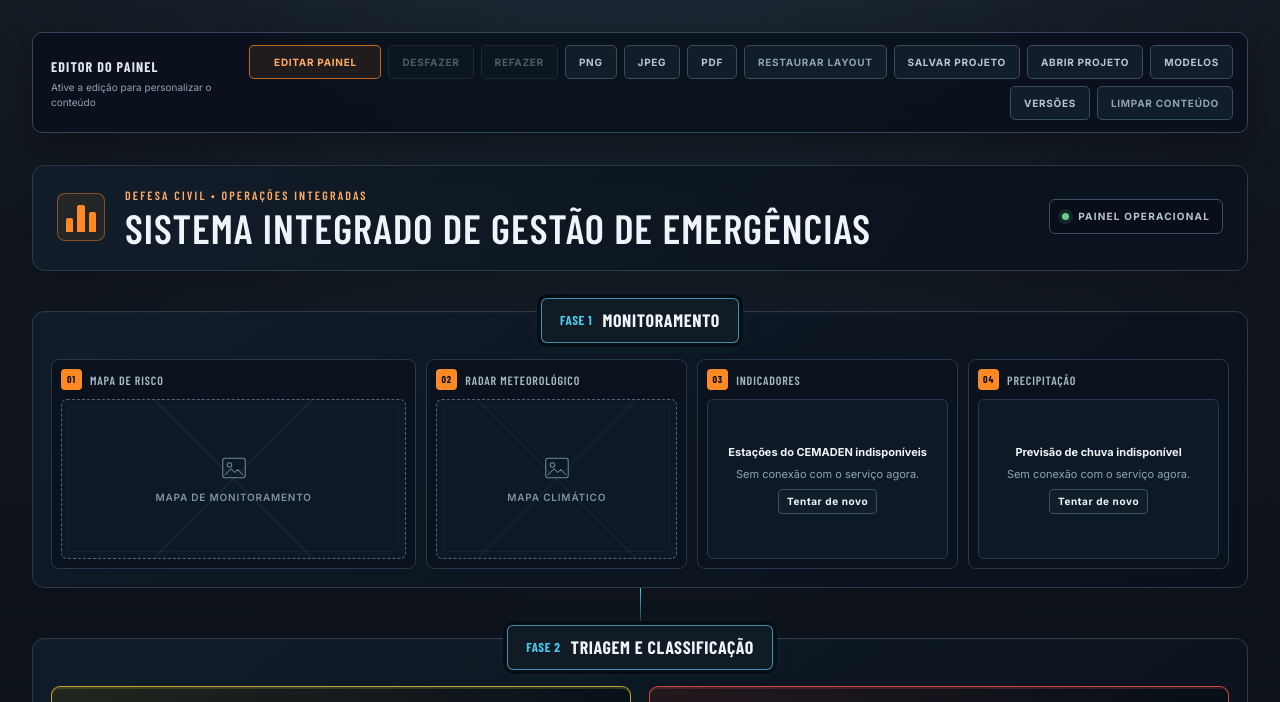
modelos › aplica um modelo e permite desfazer
Click the button "MODELOS" at (1192, 62), box [1150, 45, 1233, 79]
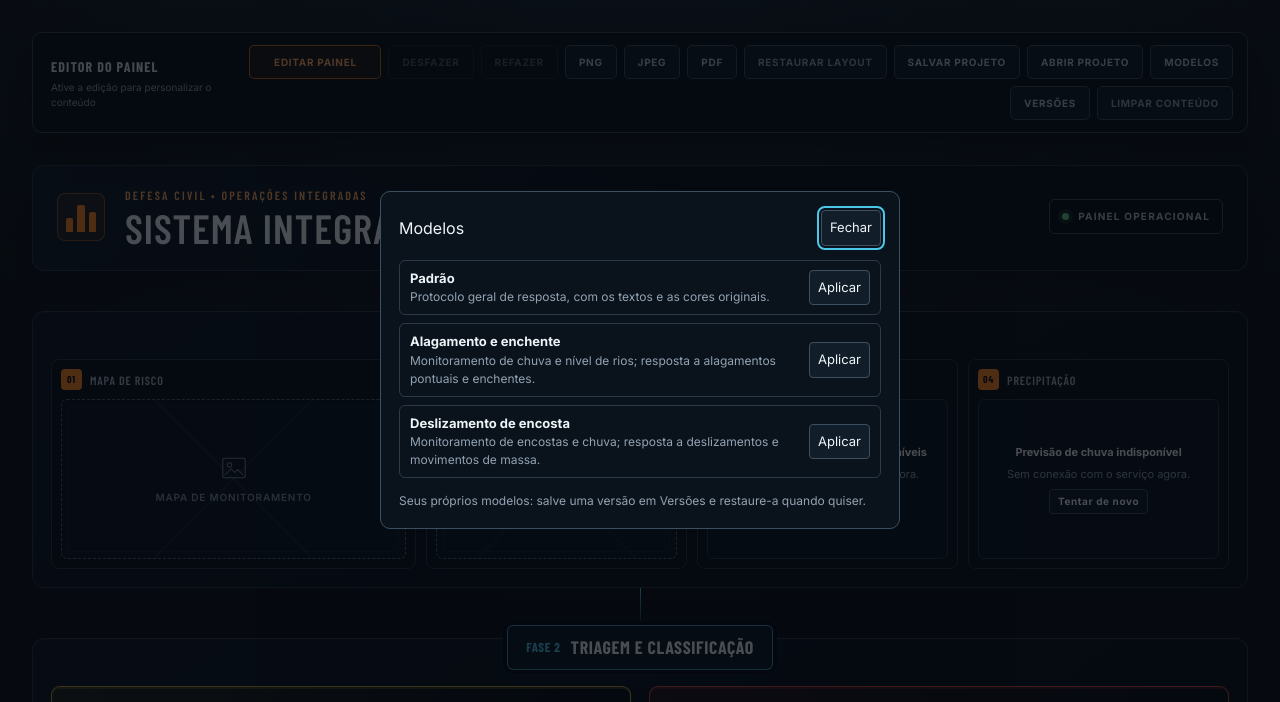
Click the button with aria-label "Aplicar Alagamento e enchente" at (840, 360), box [809, 342, 870, 378]
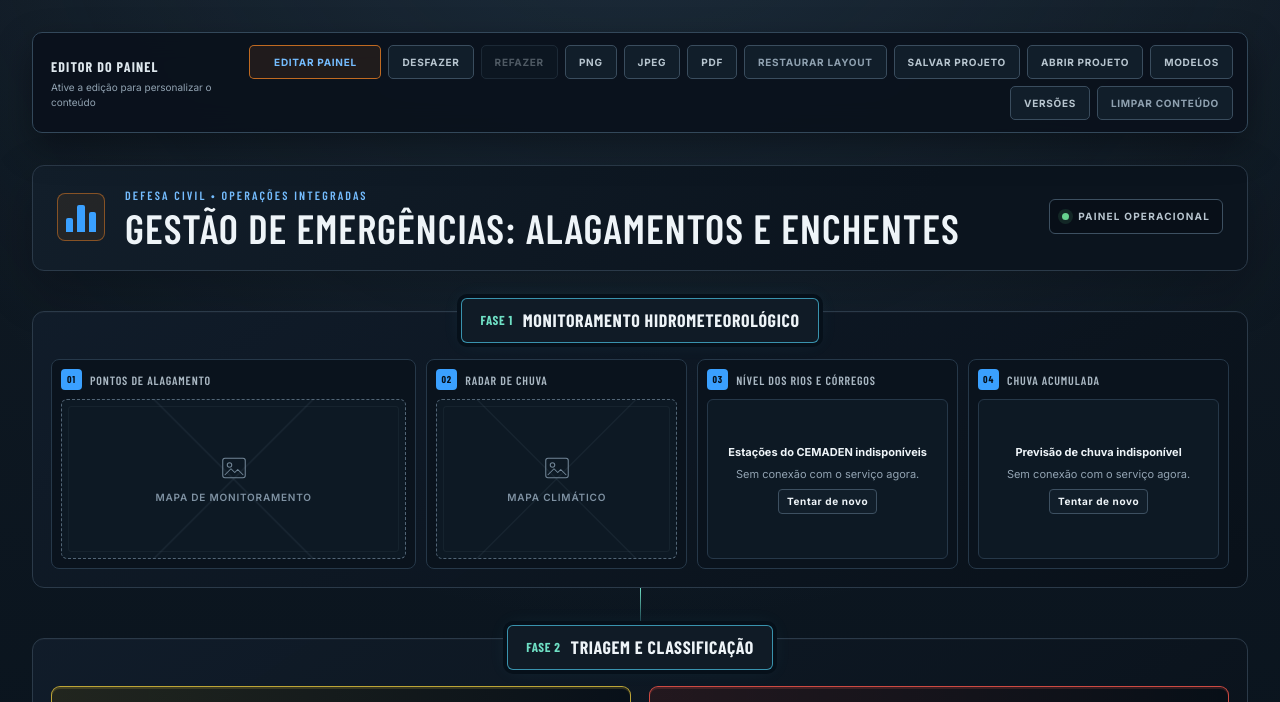
Now the dialog is gone
Now the text "PONTOS DE ALAGAMENTO" is shown, box [90, 371, 211, 389]
Now the text "MAPA DE RISCO" is gone
Click the button "DESFAZER" at (431, 62), box [388, 45, 474, 79]
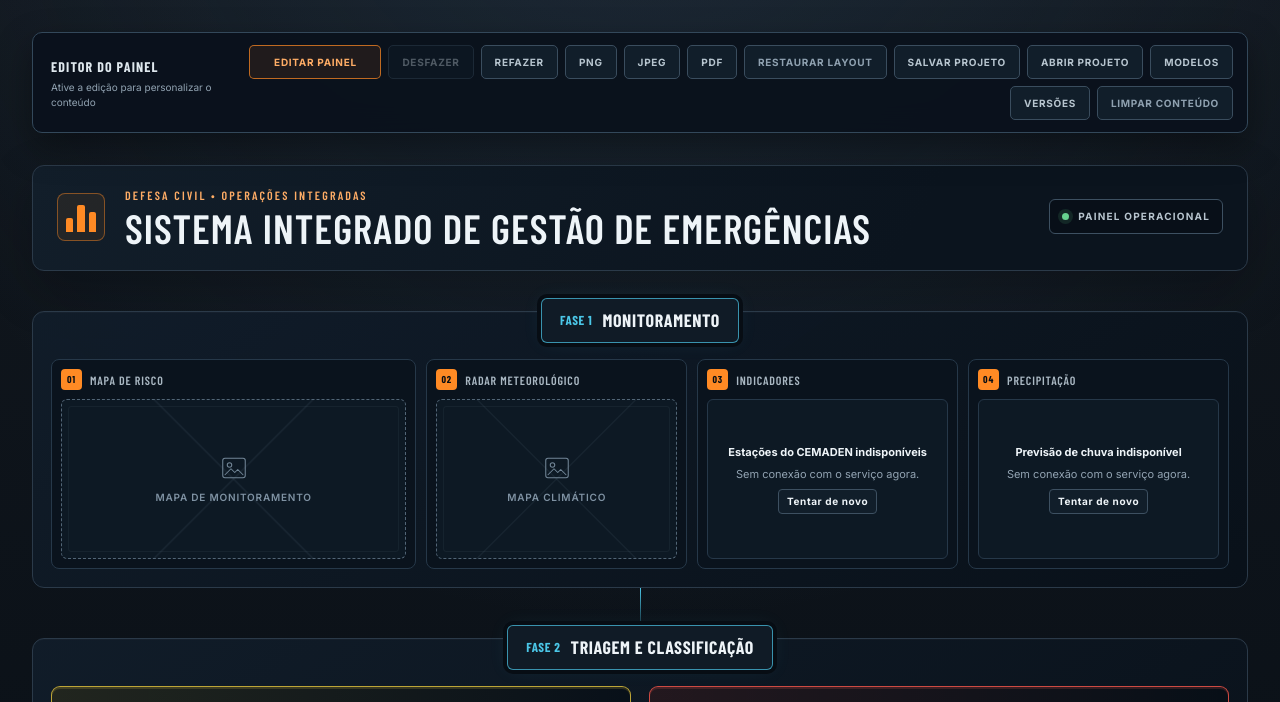
Now the text "MAPA DE RISCO" is shown, box [90, 371, 164, 389]
